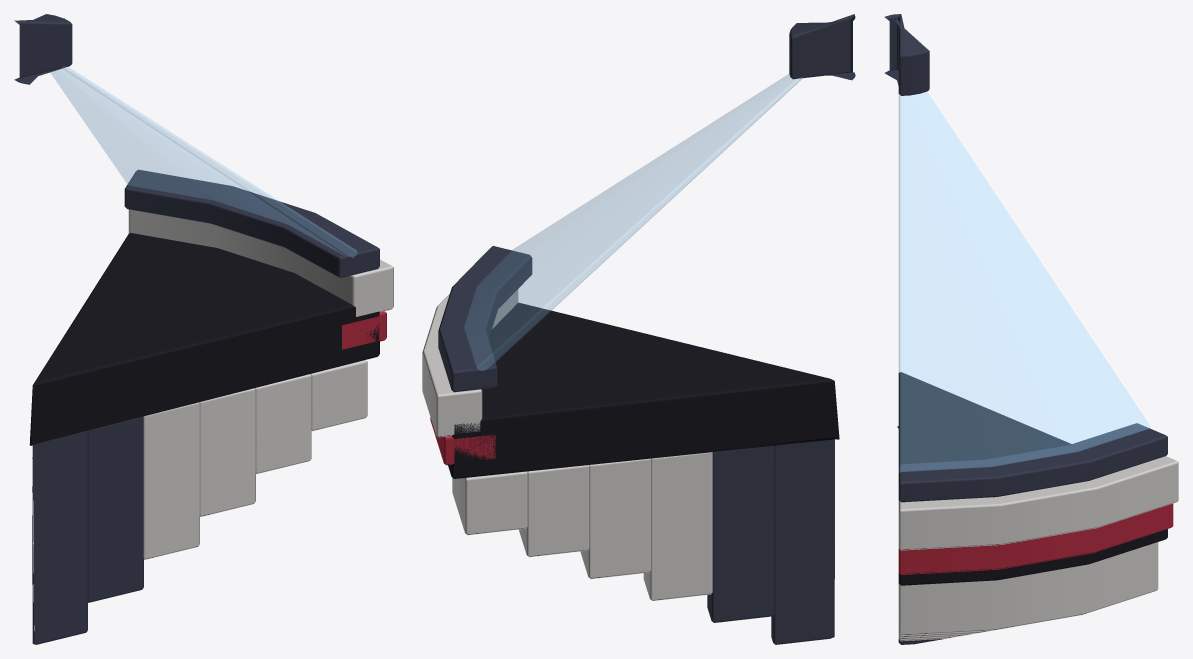
The model's file is canopy.corner45.deck.glb.
3 views of the same model, side by side, from view 1: azimuth 30°, elevation 25°; view 2: azimuth 150°, elevation 25°; view 3: azimuth 270°, elevation 25° (orthographic). The views are drawn at different scales.
Visible parts, largest first — view 1: canopy.corner45.deck; view 2: canopy.corner45.deck; view 3: canopy.corner45.deck.
Boxes of the visible parts, left/top/right/bottom form: canopy.corner45.deck: left=14, top=14, right=393, bottom=644; canopy.corner45.deck: left=422, top=14, right=855, bottom=644; canopy.corner45.deck: left=884, top=14, right=1178, bottom=644.
Size of the model in its own units: 1.7 by 2.69 by 1.2.
